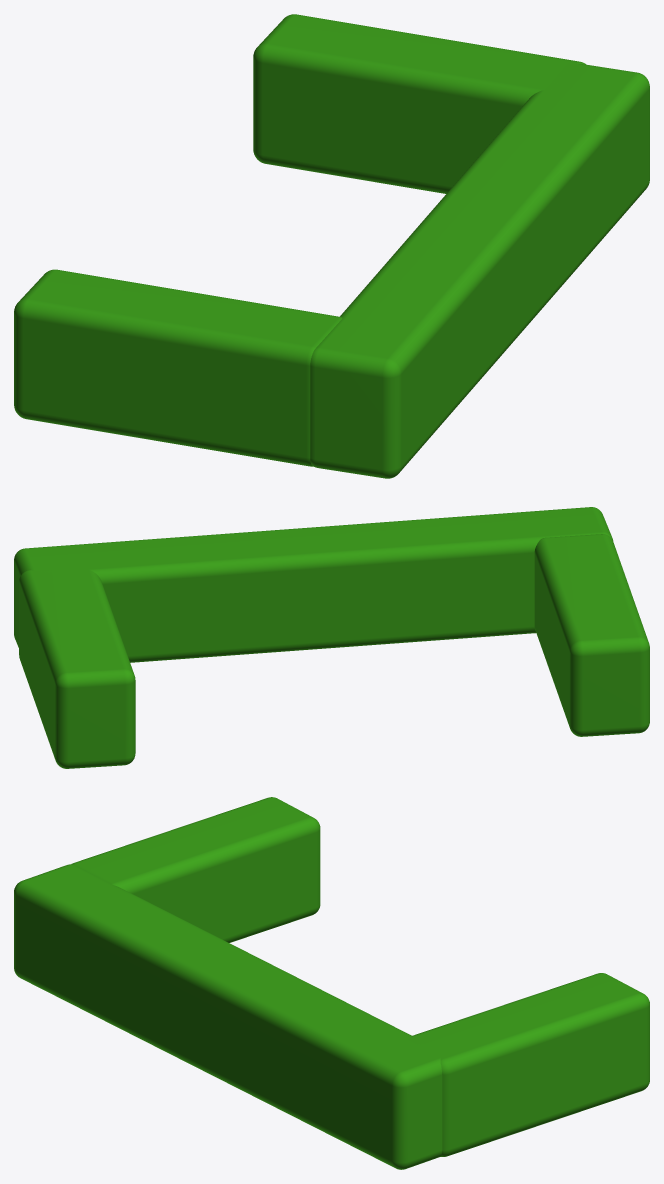
File: Shrub_DeadEnd.fbx
The picture shows the model from 3 angles, top to bottom: view 1: azimuth 30°, elevation 25°; view 2: azimuth 150°, elevation 25°; view 3: azimuth 270°, elevation 25°; orthographic projection. The views are drawn at different scales.
Visible parts, largest first — view 1: Box 20, Box 19, Box 17; view 2: Box 20, Box 19, Box 17; view 3: Box 20, Box 17, Box 19.
Boxes of the visible parts, x1,y1,x2,y2 form: Box 20: (310,63,649,478); Box 19: (14,269,342,466); Box 17: (253,14,585,193); Box 20: (14,507,613,662); Box 19: (534,534,649,736); Box 17: (19,569,135,768); Box 20: (14,864,445,1169); Box 17: (407,973,649,1156); Box 19: (71,797,320,942).
Size of the model in its own units: 17.14 by 2.74 by 16.25.
